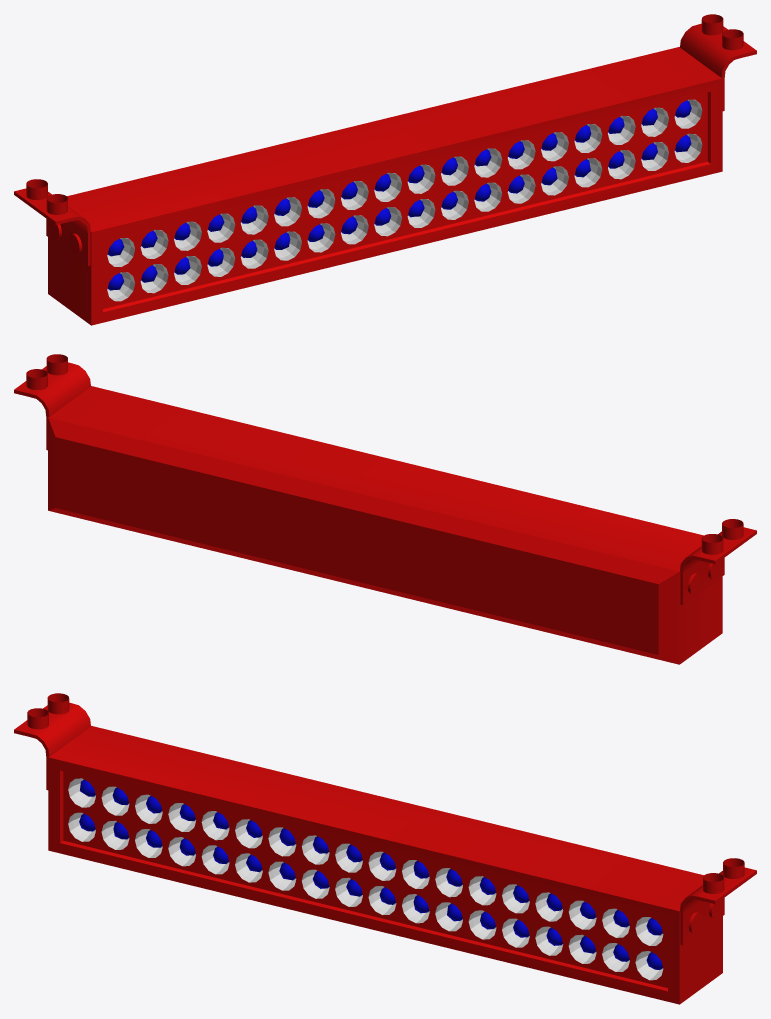
Rendered from LightBar.fbx.
3 views of the same model, one above another, from view 1: azimuth 30°, elevation 25°; view 2: azimuth 150°, elevation 25°; view 3: azimuth 330°, elevation 25° (orthographic).
Parts seen in each view (by area): view 1: LightBar; view 2: LightBar; view 3: LightBar.
Boxes of the visible parts, x1,y1,x2,y2 form: LightBar: [14, 14, 756, 325]; LightBar: [14, 354, 756, 664]; LightBar: [14, 693, 756, 1004].
Size of the model in its own units: 1.17 by 0.1966 by 0.1436.
